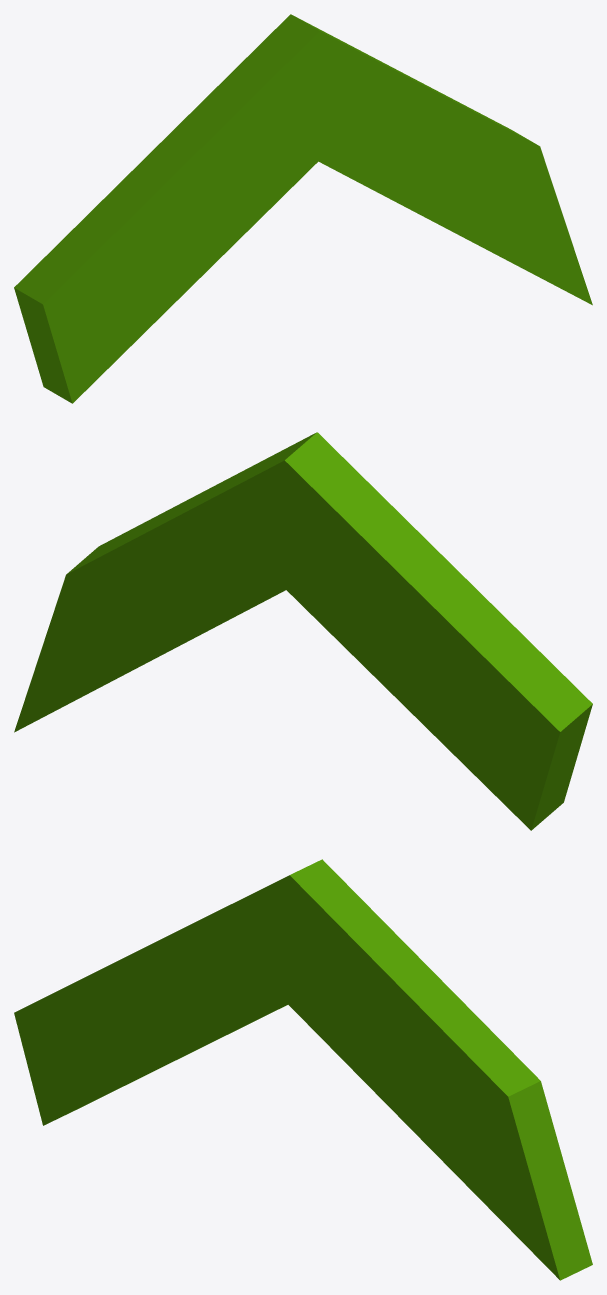
3 views of the same model, one above another, from view 1: azimuth 30°, elevation 25°; view 2: azimuth 150°, elevation 25°; view 3: azimuth 330°, elevation 25° (orthographic).
Visible parts, largest first — view 1: Object.1; view 2: Object.1; view 3: Object.1.
Boxes of the visible parts, x1,y1,x2,y2 form: Object.1: [14, 14, 592, 403]; Object.1: [14, 432, 592, 830]; Object.1: [14, 859, 592, 1280].
Bounding box in the file's own units: 44.97 × 27.03 × 4.45.
